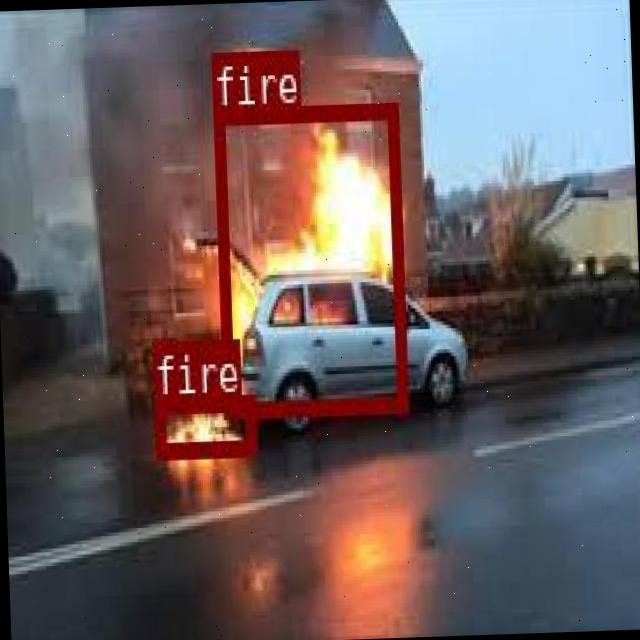fire: (212, 102, 406, 414), (153, 394, 255, 456)
